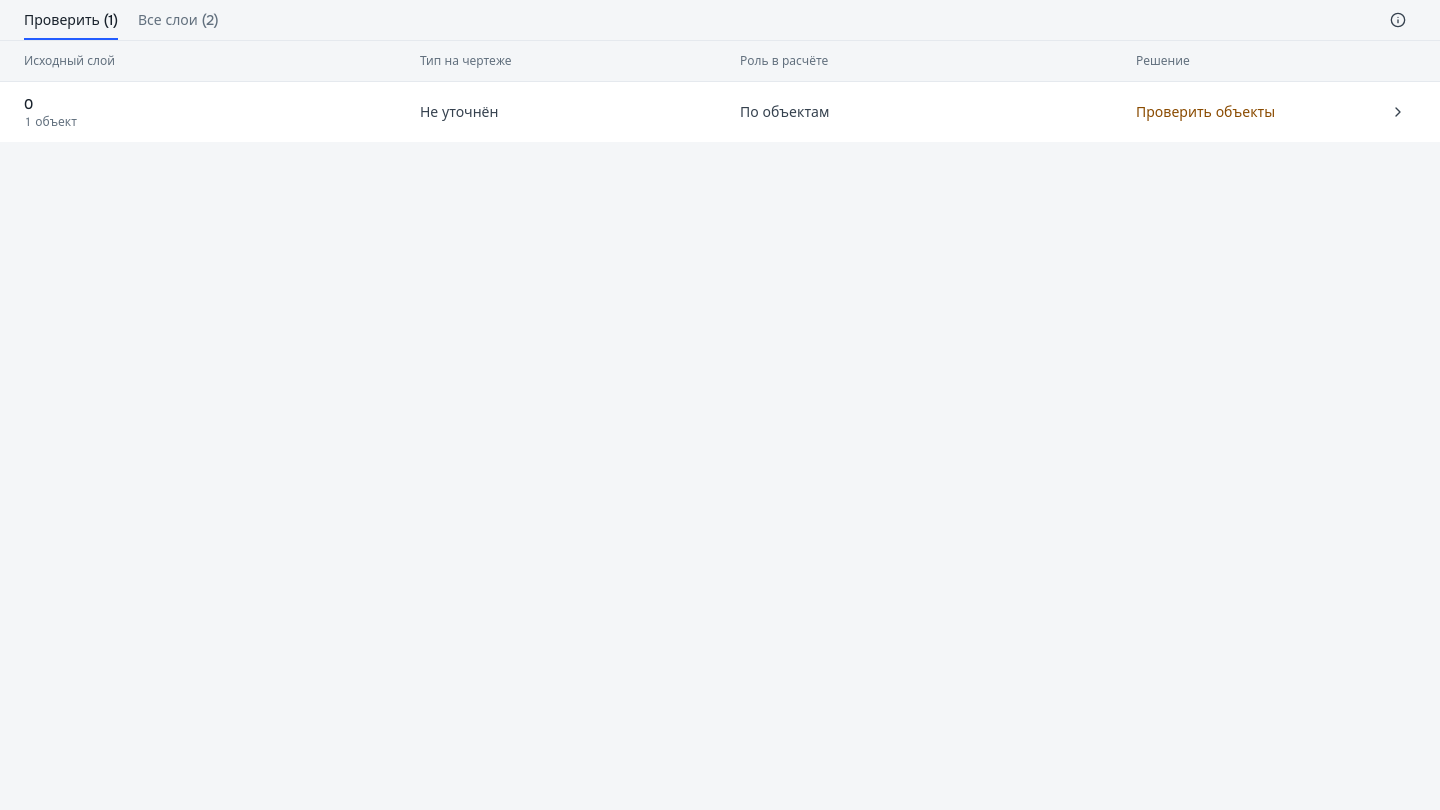
Test case: keeps topology intent separate from accepted roles and still reviews unresolved zero objects
Expected: the tab "Проверить (1)" is shown, x1=24 y1=0 x2=118 y2=40
Expected: the text "Проверить объекты" is shown, x1=1136 y1=103 x2=1275 y2=121
What coordinates should you click on to do the following:
click the tab "Все слои (2)"
I would click on:
 (178, 20)
Its box is x1=138 y1=0 x2=219 y2=40.
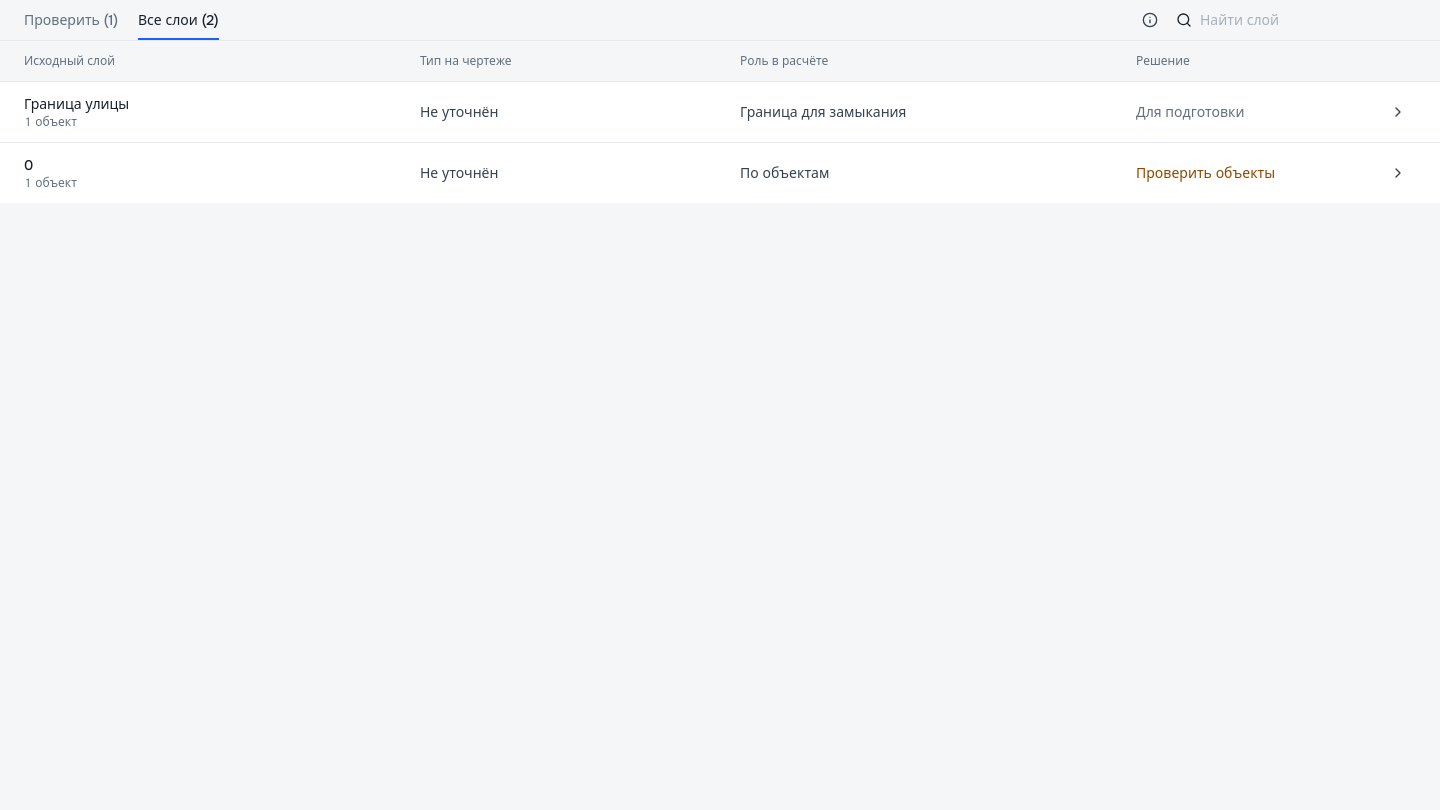
Expected: the text "Граница для замыкания" is shown, x1=740 y1=103 x2=906 y2=121
What coordinates should you click on to do the following:
click the button named "О распознавании слоёв"
I would click on:
 (1150, 20)
Its box is x1=1132 y1=2 x2=1168 y2=38.
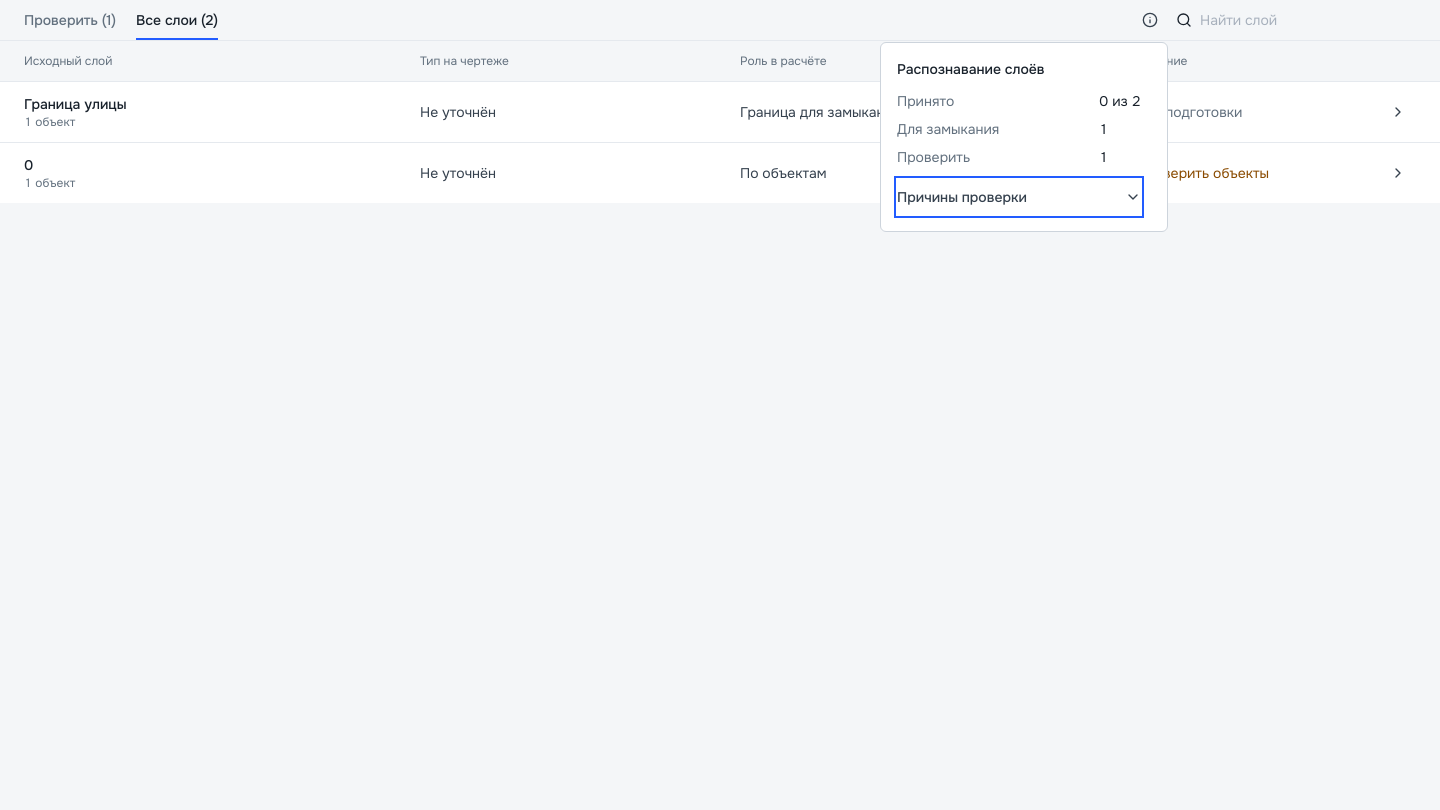
Expected: the text "Для замыкания" is shown, x1=897 y1=120 x2=999 y2=138
Expected: the text "0 из 2" is shown, x1=1099 y1=91 x2=1141 y2=111
